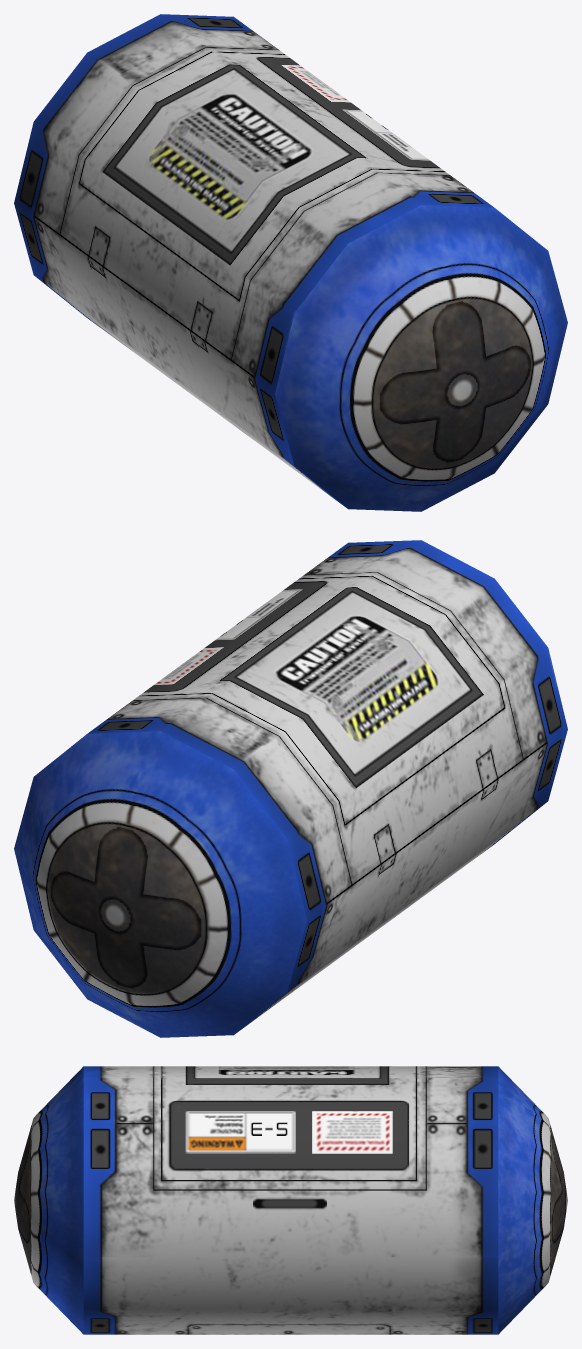
Rendered from base_pod_closed.dae.
The picture shows the model from 3 angles, top to bottom: view 1: azimuth 30°, elevation 25°; view 2: azimuth 150°, elevation 25°; view 3: azimuth 270°, elevation 25°; orthographic projection. The views are drawn at different scales.
Visible parts, largest first — view 1: storage_pod_closed; view 2: storage_pod_closed; view 3: storage_pod_closed.
Boxes of the visible parts, <box> form: storage_pod_closed: <box>14,14,567,511</box>; storage_pod_closed: <box>14,540,567,1037</box>; storage_pod_closed: <box>14,1066,567,1334</box>.
Size of the model in its own units: 5.14 by 10.58 by 5.14.
Materials: 1 (1 with a texture image).
